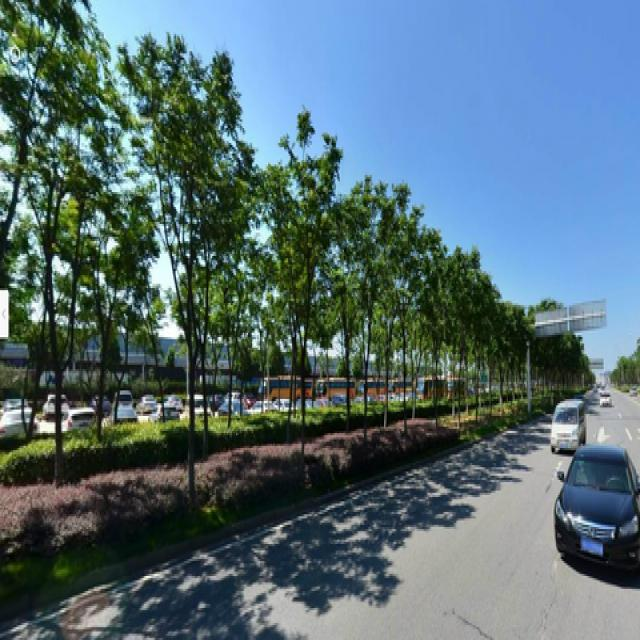koel: (142, 30, 230, 493), (273, 113, 323, 452), (367, 200, 397, 422)
